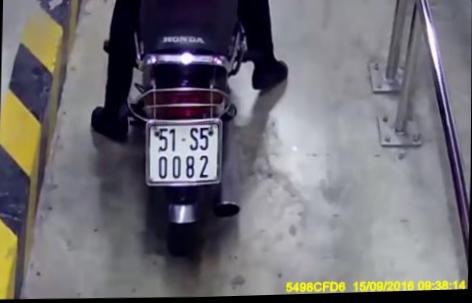LP: (144, 118, 224, 188)
